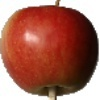apple: (1, 5, 99, 97)
